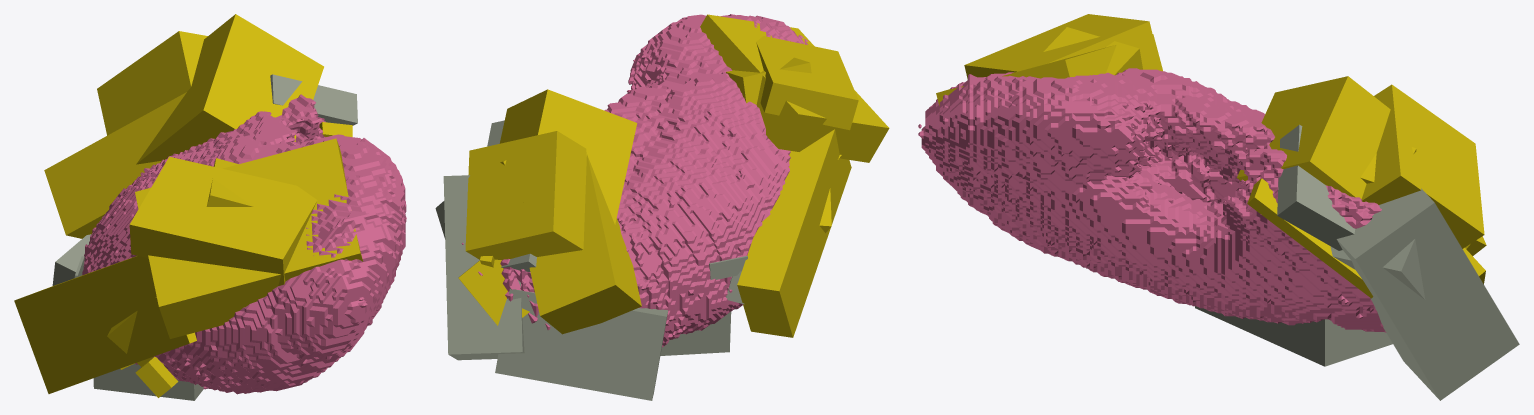
The model's file is concensus_with_projected_tbs.glb.
3 views of the same model, side by side, from view 1: azimuth 30°, elevation 25°; view 2: azimuth 150°, elevation 25°; view 3: azimuth 270°, elevation 25° (orthographic). The views are drawn at different scales.
Parts seen in each view (by area): view 1: world; view 2: world; view 3: world.
Boxes of the visible parts, box(x1,y1,x2,y2) form: world: box(14, 14, 406, 400); world: box(435, 14, 889, 400); world: box(918, 14, 1519, 400).
Bounding box in the file's own units: 97.06 × 82.72 × 145.
